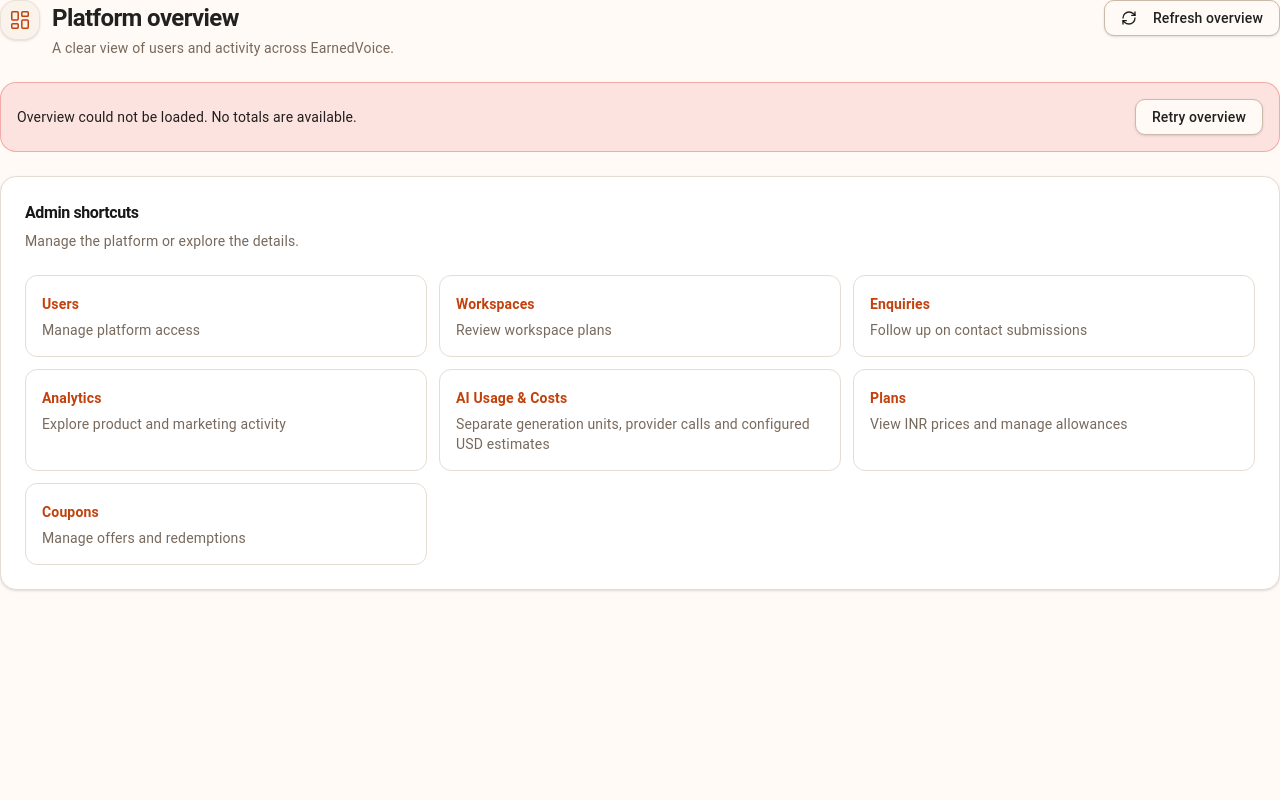
Test: AdminOverview › reports failure without zero metrics or charts and retries
Expected: the message shows "No totals are available", [211,109,357,125]
Expected: the text "0" is not shown
Click the button "Retry overview".
click(1199, 117)  # box [1135,99,1263,135]
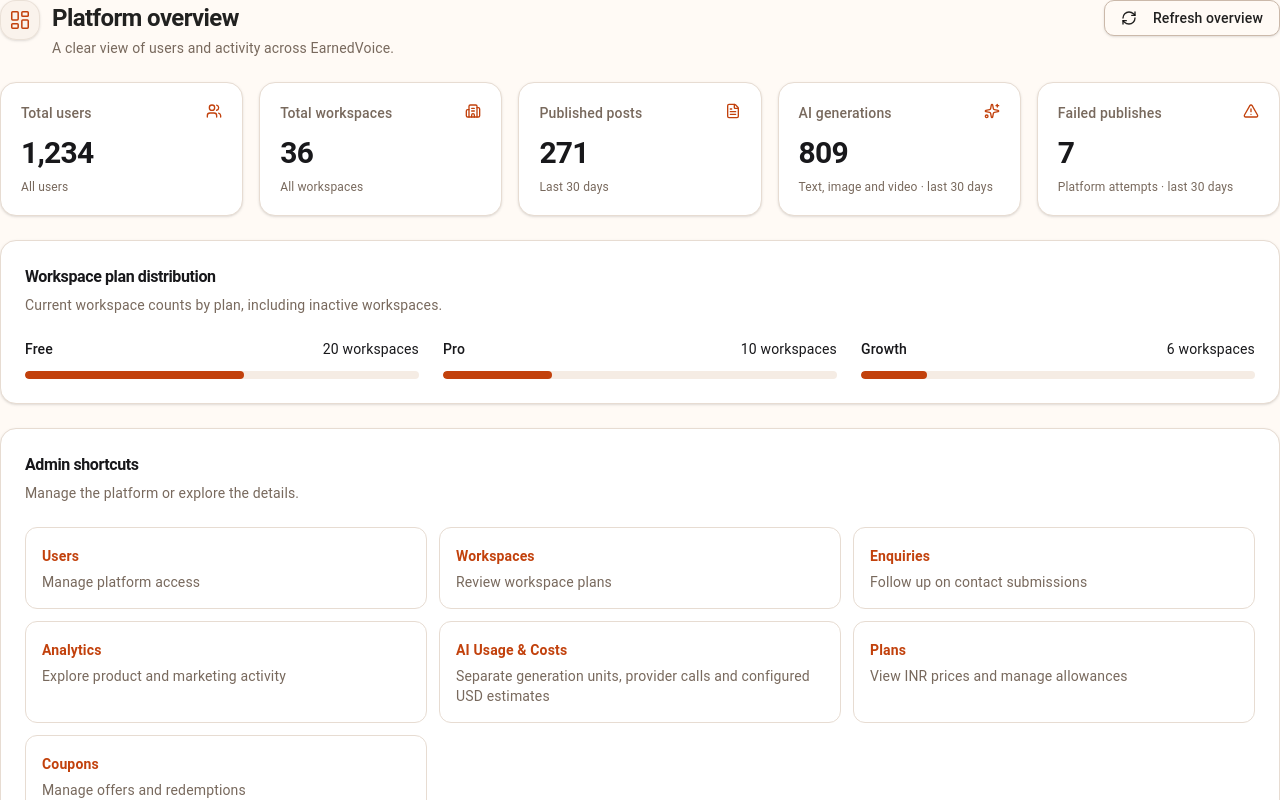
Expected: the text "1,234" is shown, [21,135,93,170]
